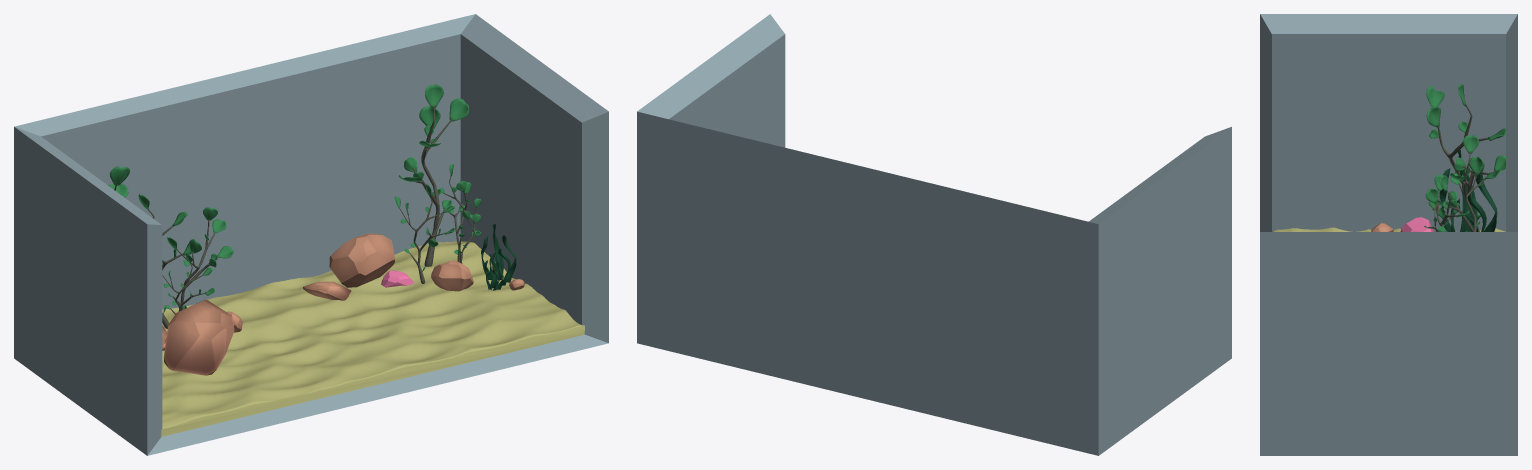
Rendered from Aquarium.fbx.
3 renders of one model, left to right at view 1: azimuth 30°, elevation 25°; view 2: azimuth 150°, elevation 25°; view 3: azimuth 270°, elevation 25°, orthographic. The views are drawn at different scales.
Visible parts, largest first — view 1: Akvaryum Cam, Akvaryum Zemin, TasYassiMain, TasYuvarlakMain, Yosun Agac.013, TasYuvarlakMain 4, Yosun Agac.001, Yosun Agac.009, Yosun.001, TasYassiMain 1; view 2: Akvaryum Cam; view 3: Akvaryum Cam, Yosun.003, Yosun Agac.011, Yosun Agac.010, Yosun Agac.008, Yosun Agac.009, Yosun Agac.005, TasYariYassiMain, Akvaryum Zemin.
Part boxes in pixels (x1,y1,x2,y2): Akvaryum Cam: (14,14,608,455); Akvaryum Zemin: (161,241,584,436); TasYassiMain: (163,299,234,375); TasYuvarlakMain: (329,233,395,287); Yosun Agac.013: (398,84,468,247); TasYuvarlakMain 4: (431,260,473,291); Yosun Agac.001: (412,105,452,266); Yosun Agac.009: (167,207,233,309); Yosun.001: (481,224,516,285); TasYassiMain 1: (303,281,351,300); Akvaryum Cam: (637,14,1231,455); Akvaryum Cam: (1260,14,1517,455); Yosun.003: (1439,149,1497,231); Yosun Agac.011: (1426,84,1505,219); Yosun Agac.010: (1437,135,1505,225); Yosun Agac.008: (1435,103,1488,231); Yosun Agac.009: (1425,174,1469,231); Yosun Agac.005: (1449,151,1495,231); TasYariYassiMain: (1400,217,1433,231); Akvaryum Zemin: (1271,227,1505,231).
Bounding box in the file's own units: 2064 × 990 × 1032.
